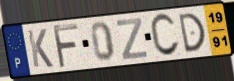0: (89, 20, 117, 64)
C: (149, 12, 182, 59)
D: (177, 11, 207, 55)
F: (51, 22, 80, 70)
K: (25, 28, 55, 69)
Z: (115, 16, 149, 61)
